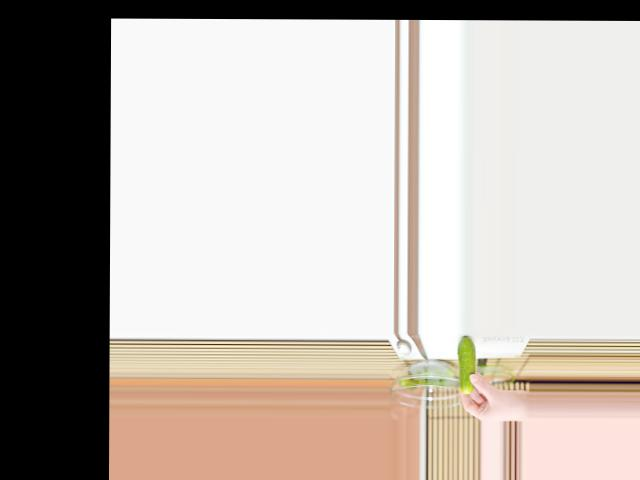cucumber: (457, 335, 475, 394)
